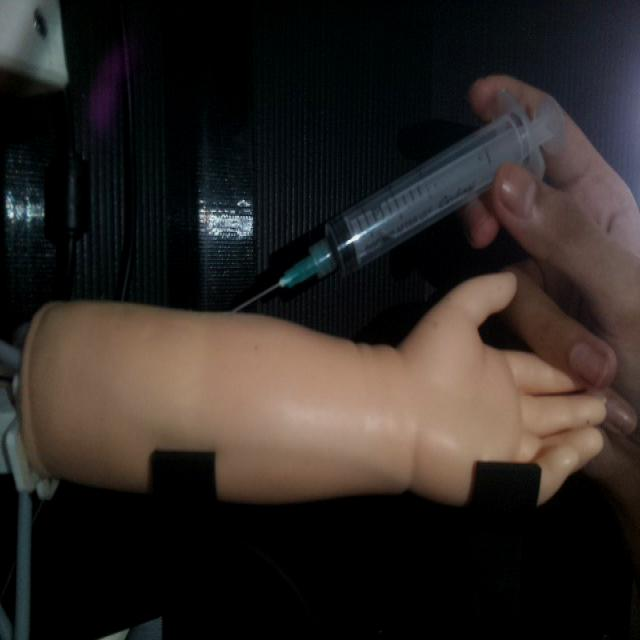Above 30 degrees: (227, 88, 565, 315)
